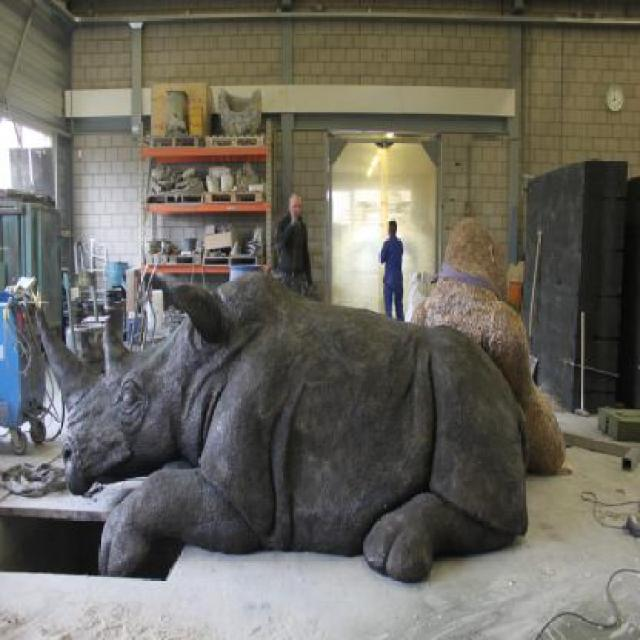obstacle: (275, 192, 314, 297), (378, 218, 405, 322)
